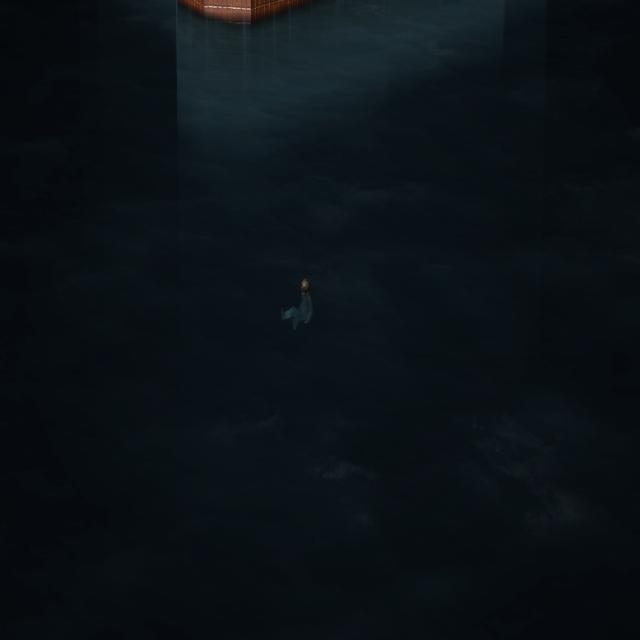Human: (277, 275, 318, 335)
